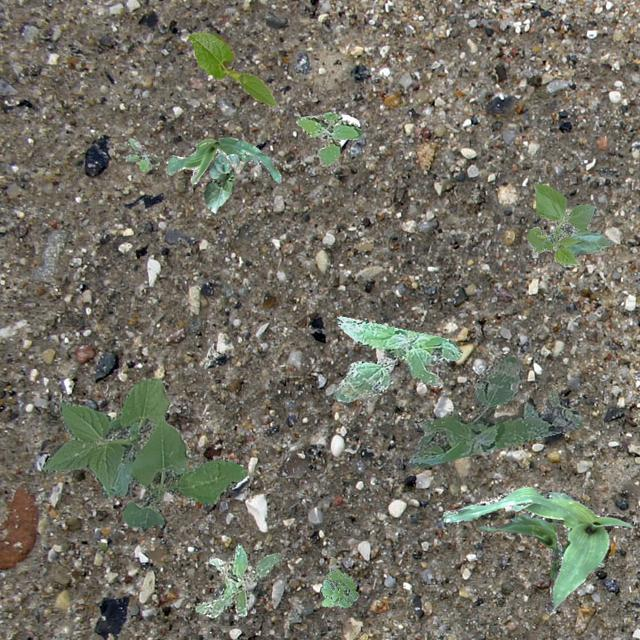crop: (442, 484, 632, 614), (526, 180, 610, 264), (188, 31, 274, 106), (478, 514, 562, 578), (164, 136, 280, 182), (202, 150, 234, 212)
weed: (42, 376, 245, 528), (406, 352, 582, 468), (332, 314, 462, 402), (194, 542, 282, 616), (294, 111, 360, 166), (320, 568, 358, 606), (124, 136, 160, 170)
